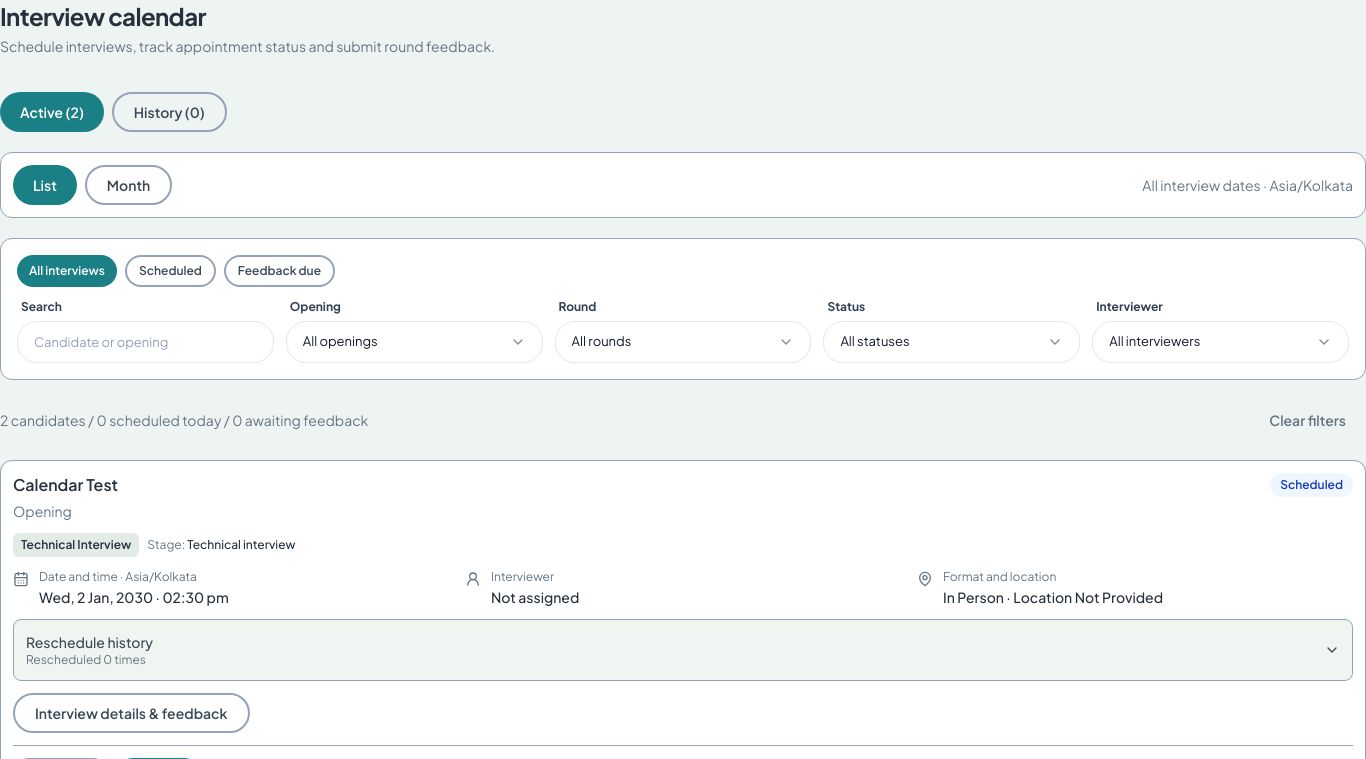
Test: calendar appointment entry points › shows previous-round feedback in the details panel only
Check: the text "Calendar Test" is shown, box [13,473,118,497]
Check: the text "Ready for technical assessment" is not shown
Click the button "Interview details & feedback".
click(131, 713)  # box [13,693,250,733]
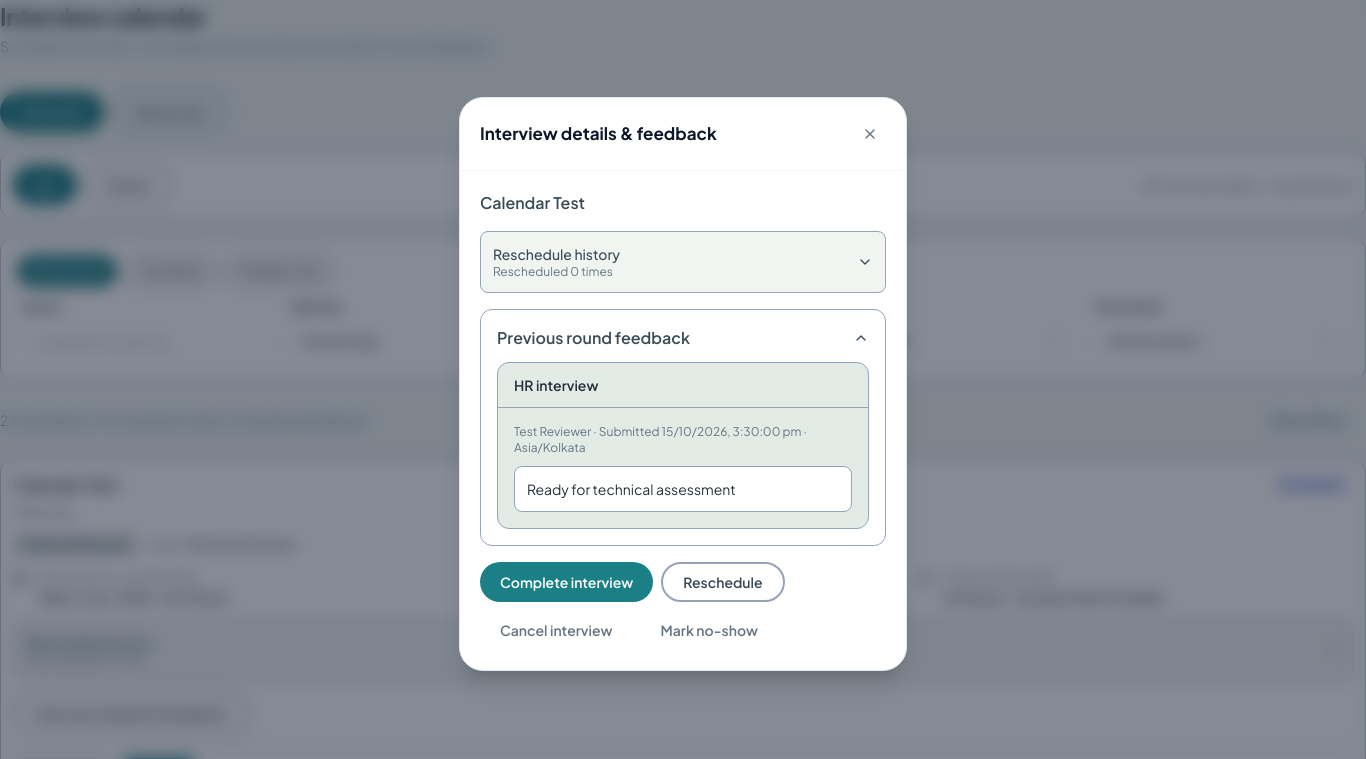
Check: the text "Ready for technical assessment" is shown, box [514,466,852,512]
Check: the button "Complete interview" is shown, box [480,562,653,602]
